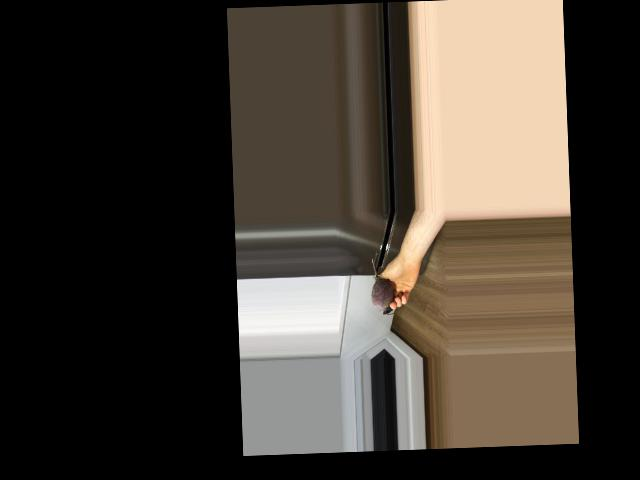beet: (370, 258, 394, 316)
